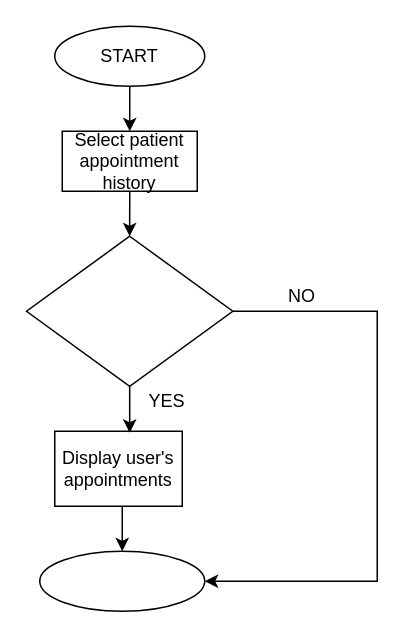
Some shapes in this 416 by 638 pixel diagram are drawn without their labels. The box of each missing label's shape, as (x1, y1, x2, y2) in pixels:
Check the DB for patient appointments: (25, 235, 233, 386)
STOP: (38, 550, 205, 611)
